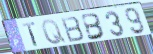3: (105, 10, 126, 38)
9: (123, 6, 147, 35)
B: (80, 12, 107, 42), (59, 15, 86, 44)
Q: (40, 19, 68, 46)
T: (21, 21, 39, 47)
